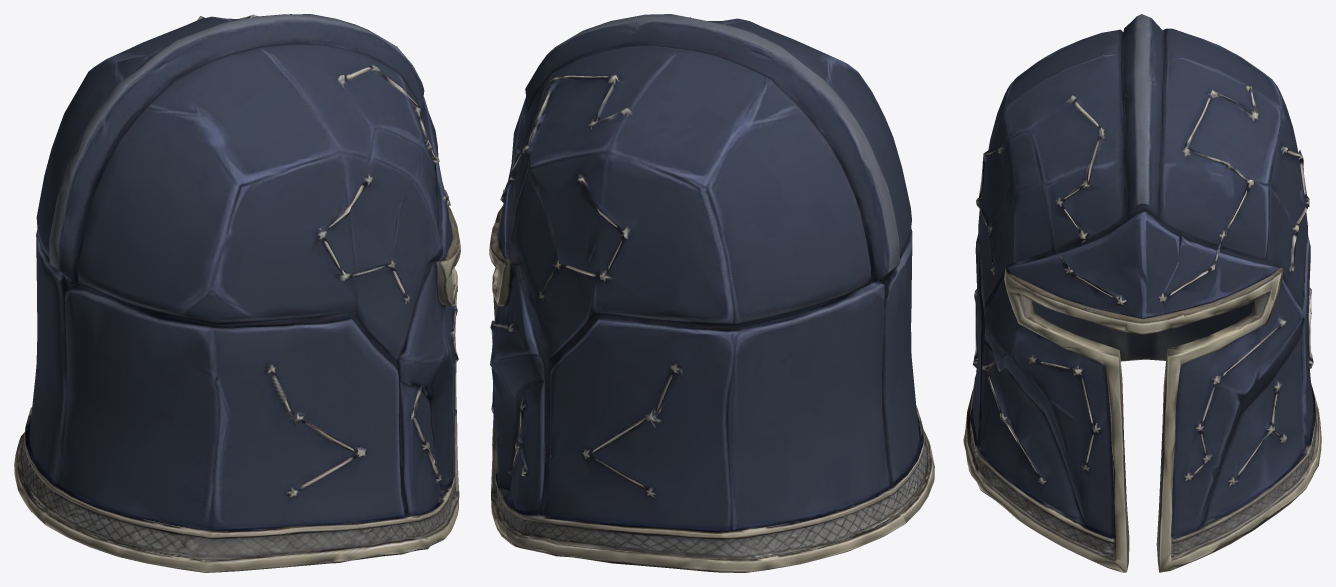
Rendered from boss_helm.glb.
The picture shows the model from 3 angles, left to right: view 1: azimuth 30°, elevation 25°; view 2: azimuth 150°, elevation 25°; view 3: azimuth 270°, elevation 25°; orthographic projection. The views are drawn at different scales.
Parts seen in each view (by area): view 1: tripo_node_22b10f97-ddce-4e6e-8f63-2a9127e09936; view 2: tripo_node_22b10f97-ddce-4e6e-8f63-2a9127e09936; view 3: tripo_node_22b10f97-ddce-4e6e-8f63-2a9127e09936.
Boxes of the visible parts, bbox=[...] form: tripo_node_22b10f97-ddce-4e6e-8f63-2a9127e09936: bbox=[14, 14, 460, 572]; tripo_node_22b10f97-ddce-4e6e-8f63-2a9127e09936: bbox=[489, 14, 934, 572]; tripo_node_22b10f97-ddce-4e6e-8f63-2a9127e09936: bbox=[963, 14, 1321, 572].
Bounding box in the file's own units: 0.8058 × 1 × 0.7211.
1 material, 1 textured.
